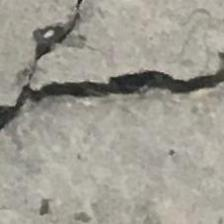Crack: (0, 0, 224, 171)
